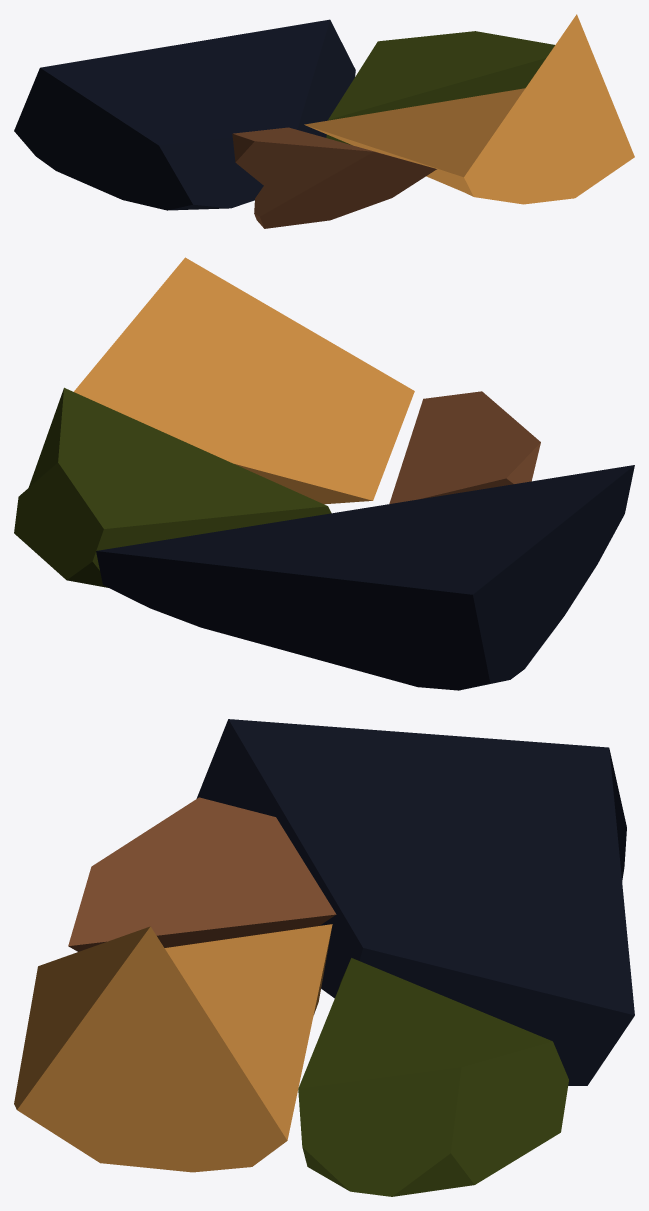
The model's file is stage1boss.obj.
3 views of the same model, one above another, from view 1: azimuth 30°, elevation 25°; view 2: azimuth 150°, elevation 25°; view 3: azimuth 270°, elevation 25° (orthographic). The views are drawn at different scales.
Parts seen in each view (by area): view 1: Cube.003_Cube.004, Cube.001, Cube_Cube.002, Cube.002_Cube.003; view 2: Cube.003_Cube.004, Cube.001, Cube.002_Cube.003, Cube_Cube.002; view 3: Cube.003_Cube.004, Cube.001, Cube.002_Cube.003, Cube_Cube.002.
Part boxes in pixels (x1,y1,x2,y2): Cube.003_Cube.004: [14, 19, 355, 210]; Cube.001: [304, 14, 634, 204]; Cube_Cube.002: [232, 127, 436, 228]; Cube.002_Cube.003: [326, 31, 554, 144]; Cube.003_Cube.004: [96, 465, 634, 690]; Cube.001: [74, 257, 414, 504]; Cube.002_Cube.003: [14, 387, 331, 587]; Cube_Cube.002: [389, 391, 540, 503]; Cube.003_Cube.004: [196, 719, 634, 1085]; Cube.001: [14, 924, 332, 1172]; Cube.002_Cube.003: [298, 958, 568, 1196]; Cube_Cube.002: [68, 797, 336, 951].
Bounding box in the file's own units: 14.67 × 4.8 × 11.12.
